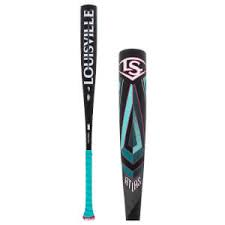baseball bat: (75, 4, 103, 221), (116, 47, 147, 225)
